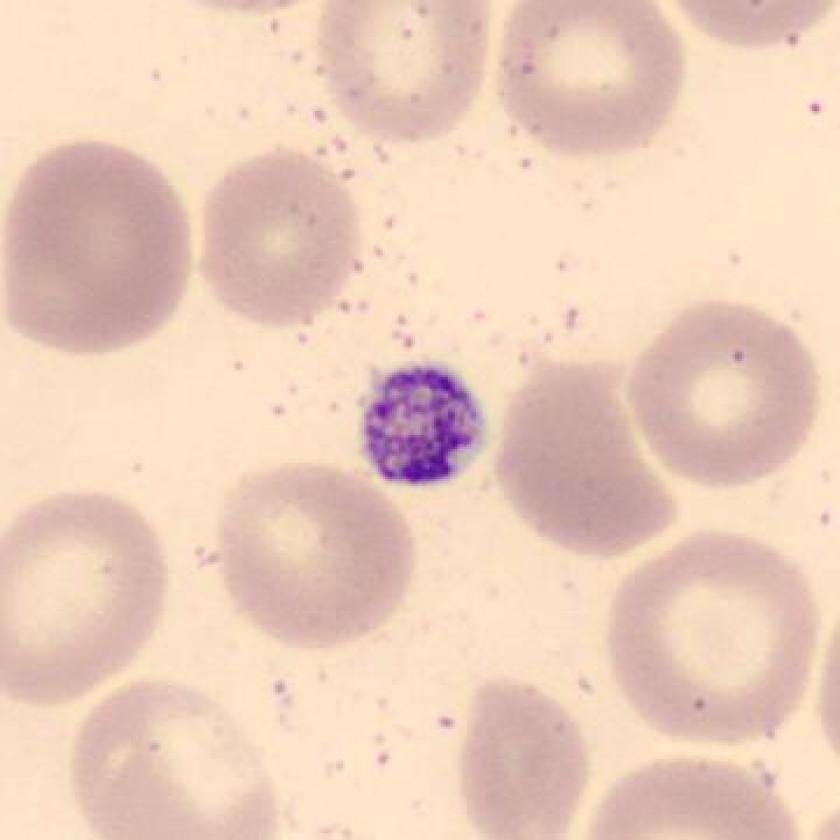platelets: (351, 350, 500, 501)
